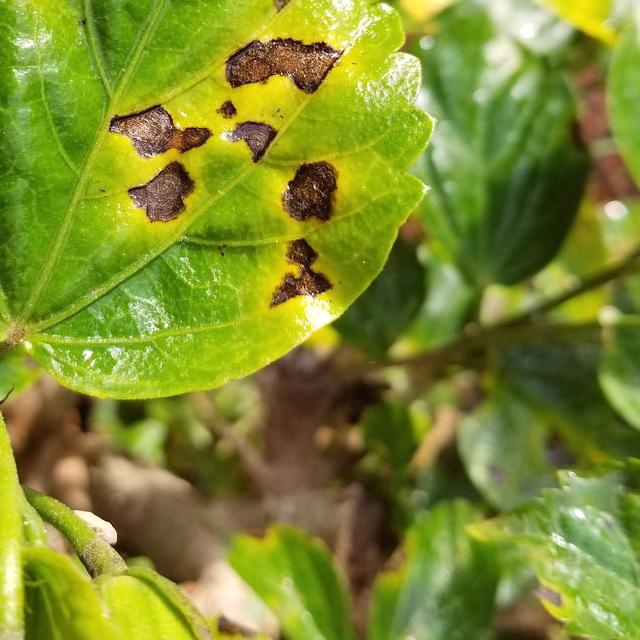Tomato leaf bacterial spot: (0, 0, 452, 401)
